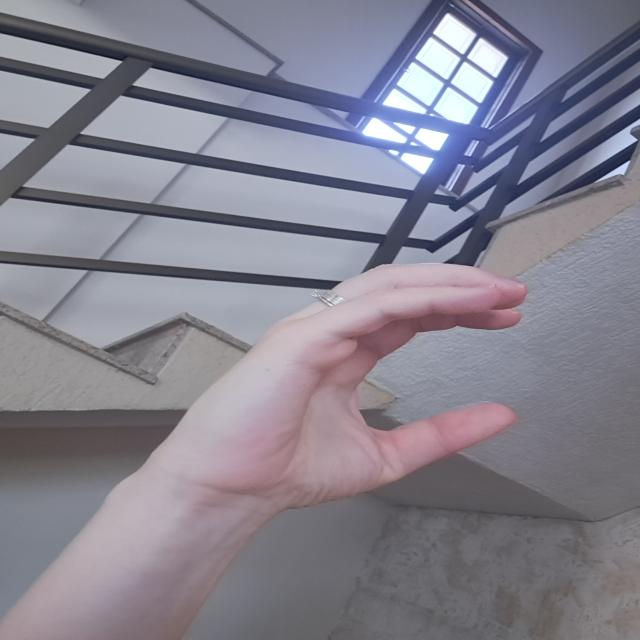C: (164, 259, 538, 502)
